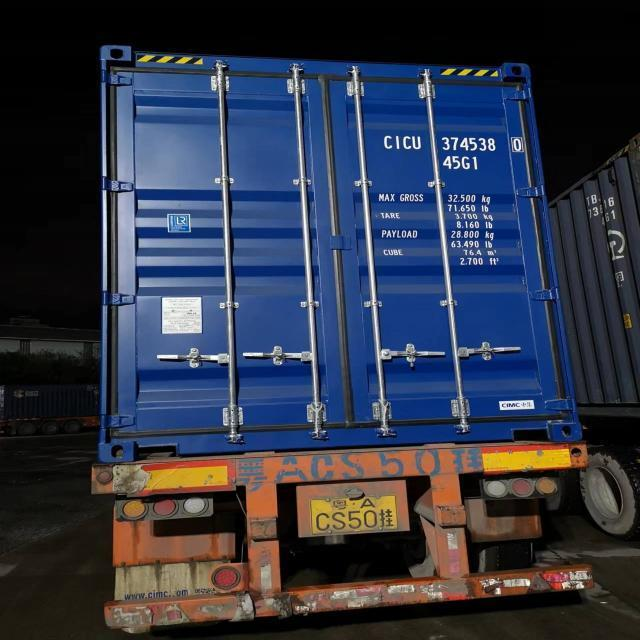ISO: (442, 154, 482, 172)
container_number: (384, 132, 524, 152)
